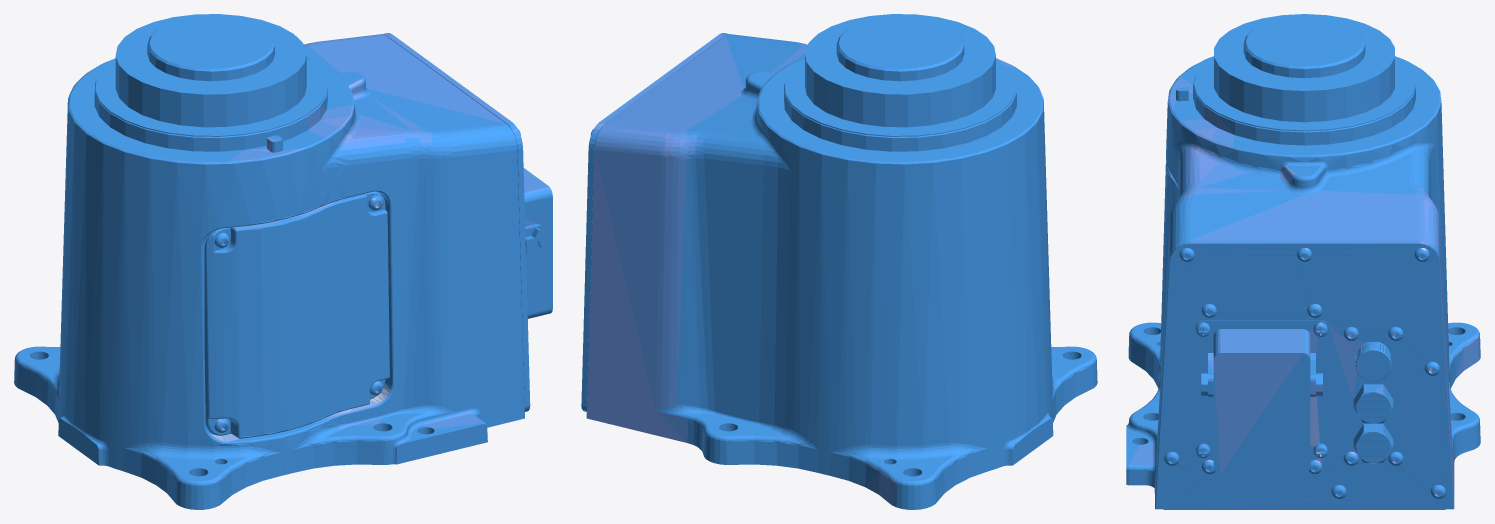
File: YaskawaGP4Link0.dae
3 renders of one model, left to right at view 1: azimuth 30°, elevation 25°; view 2: azimuth 150°, elevation 25°; view 3: azimuth 270°, elevation 25°, orthographic. The views are drawn at different scales.
Parts seen in each view (by area): view 1: YaskawaGP4Link0; view 2: YaskawaGP4Link0; view 3: YaskawaGP4Link0.
Boxes of the visible parts, x1,y1,x2,y2 form: YaskawaGP4Link0: [14, 14, 552, 509]; YaskawaGP4Link0: [581, 14, 1097, 509]; YaskawaGP4Link0: [1126, 14, 1480, 509].
Size of the model in its own units: 0.2317 by 0.1749 by 0.195.
